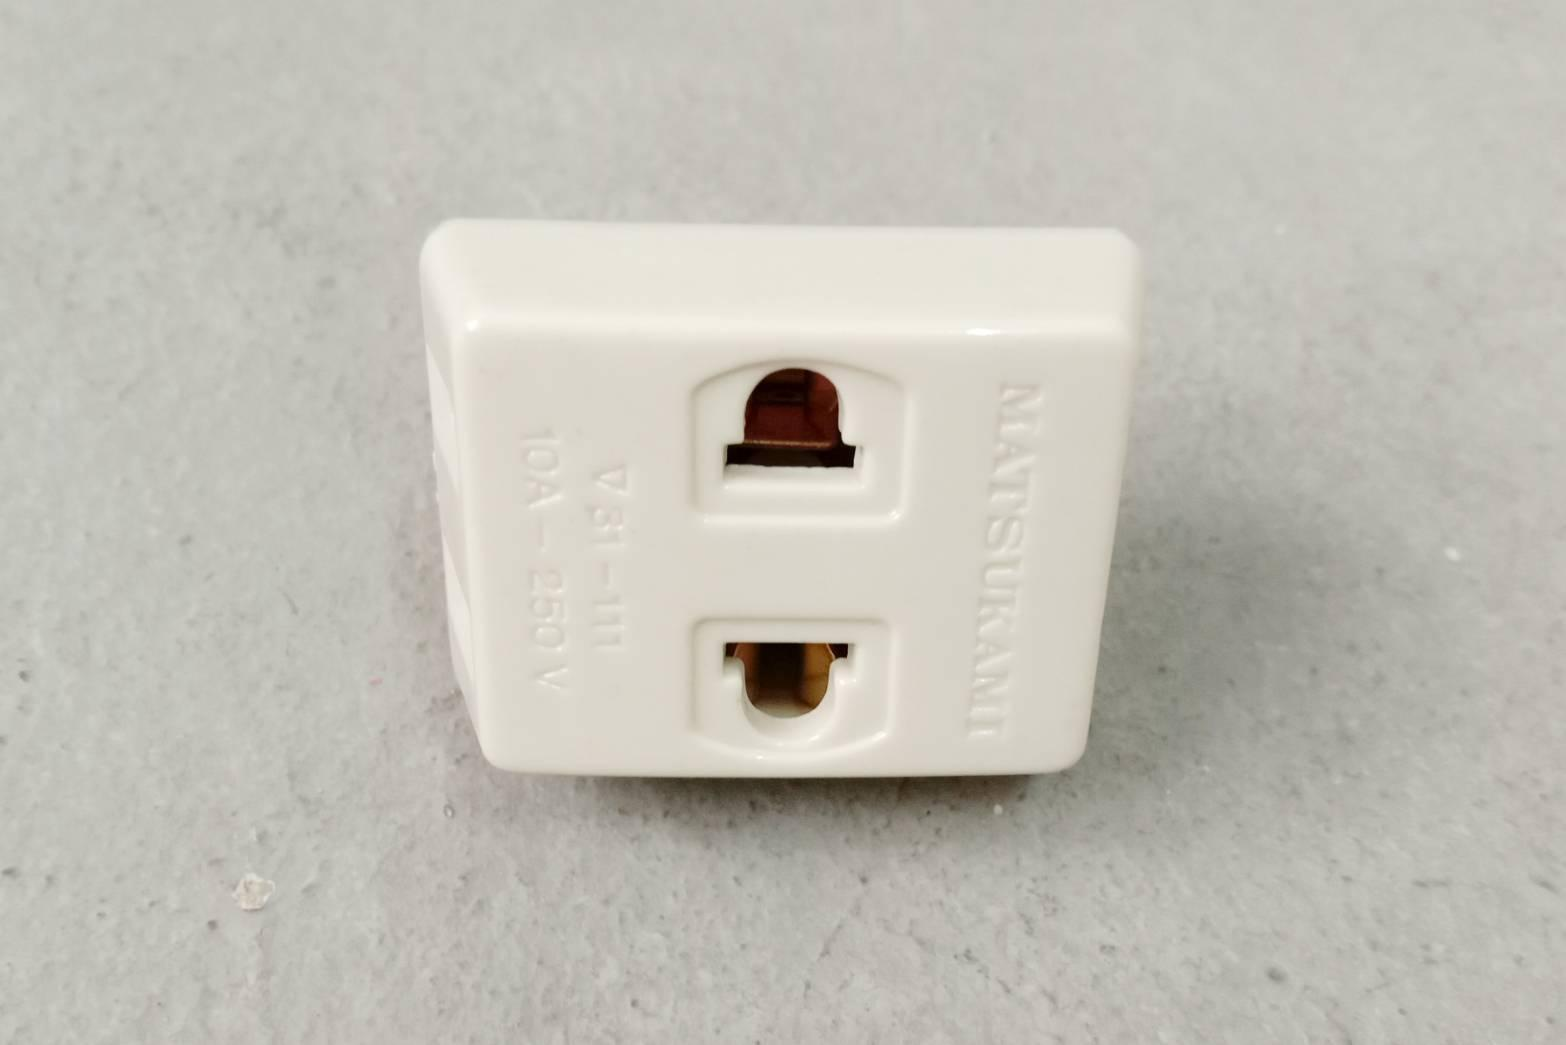Three_eye_plug: (402, 198, 1160, 832)
